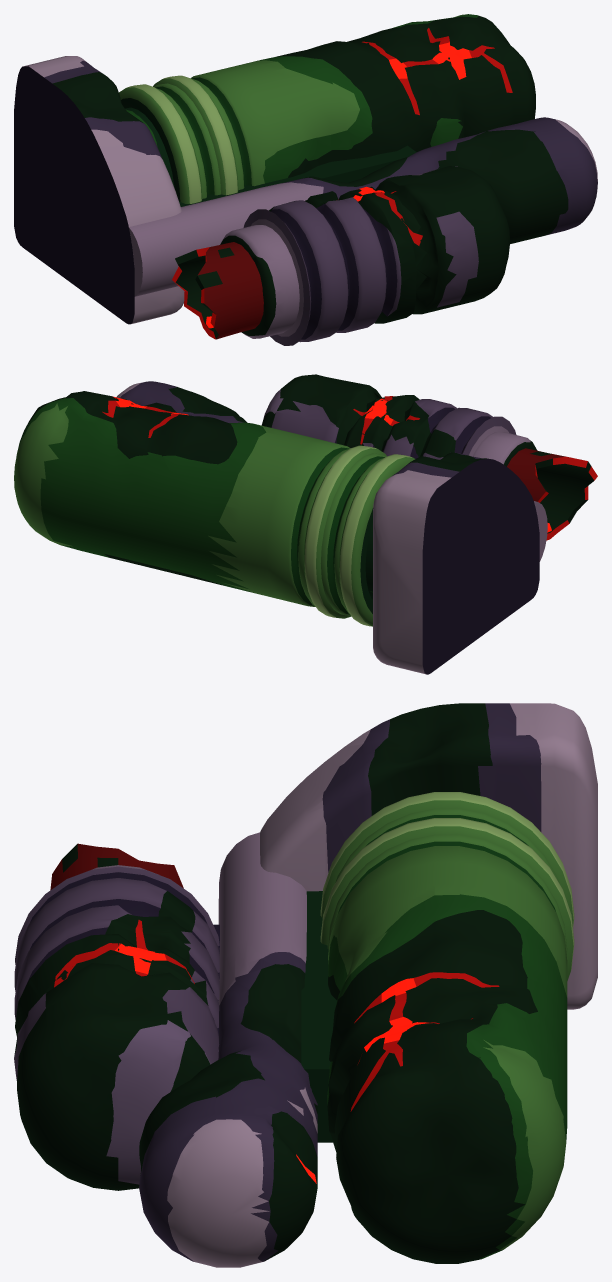
Rendered from tank_pod_dmg_right.glb.
3 renders of one model, top to bottom at view 1: azimuth 30°, elevation 25°; view 2: azimuth 150°, elevation 25°; view 3: azimuth 270°, elevation 25°, orthographic. The views are drawn at different scales.
Parts seen in each view (by area): view 1: tank_r.001, coil_r.001, block.001, rail_r.001, stump_r.001, web_tank_r.001, cracks_tank_r.001, cracks_coil_r.001; view 2: tank_r.001, block.001, coil_r.001, stump_r.001, rail_r.001, cracks_coil_r.001, cracks_tank_r.001; view 3: tank_r.001, coil_r.001, rail_r.001, block.001, web_tank_r.001, cracks_tank_r.001, stump_r.001, cracks_coil_r.001.
Boxes of the visible parts, x1=… form: tank_r.001: x1=119, y1=14, x2=535, y2=203; coil_r.001: x1=220, y1=166, x2=509, y2=345; block.001: x1=14, y1=56, x2=184, y2=324; rail_r.001: x1=129, y1=117, x2=597, y2=296; stump_r.001: x1=172, y1=242, x2=263, y2=339; web_tank_r.001: x1=179, y1=145, x2=416, y2=206; cracks_tank_r.001: x1=362, y1=28, x2=512, y2=115; cracks_coil_r.001: x1=338, y1=186, x2=422, y2=245; tank_r.001: x1=14, y1=391, x2=415, y2=626; block.001: x1=373, y1=452, x2=539, y2=674; coil_r.001: x1=261, y1=374, x2=537, y2=471; stump_r.001: x1=507, y1=448, x2=597, y2=540; rail_r.001: x1=116, y1=381, x2=547, y2=561; cracks_coil_r.001: x1=353, y1=396, x2=419, y2=444; cracks_tank_r.001: x1=102, y1=396, x2=188, y2=437; tank_r.001: x1=320, y1=792, x2=574, y2=1263; coil_r.001: x1=14, y1=865, x2=219, y2=1190; rail_r.001: x1=139, y1=832, x2=317, y2=1267; block.001: x1=260, y1=703, x2=597, y2=1009; web_tank_r.001: x1=301, y1=891, x2=336, y2=1142; cracks_tank_r.001: x1=350, y1=972, x2=499, y2=1111; stump_r.001: x1=50, y1=843, x2=183, y2=890; cracks_coil_r.001: x1=54, y1=920, x2=194, y2=987.
Bounding box in the file's own units: 23.61 × 9.56 × 18.02.
